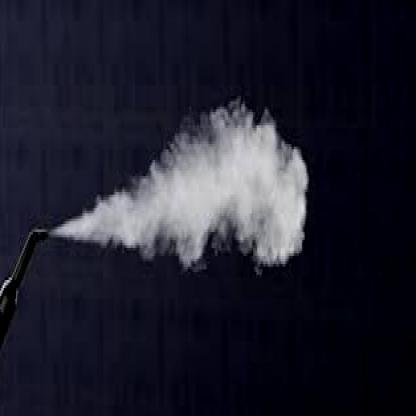smoke: (49, 104, 310, 264)
